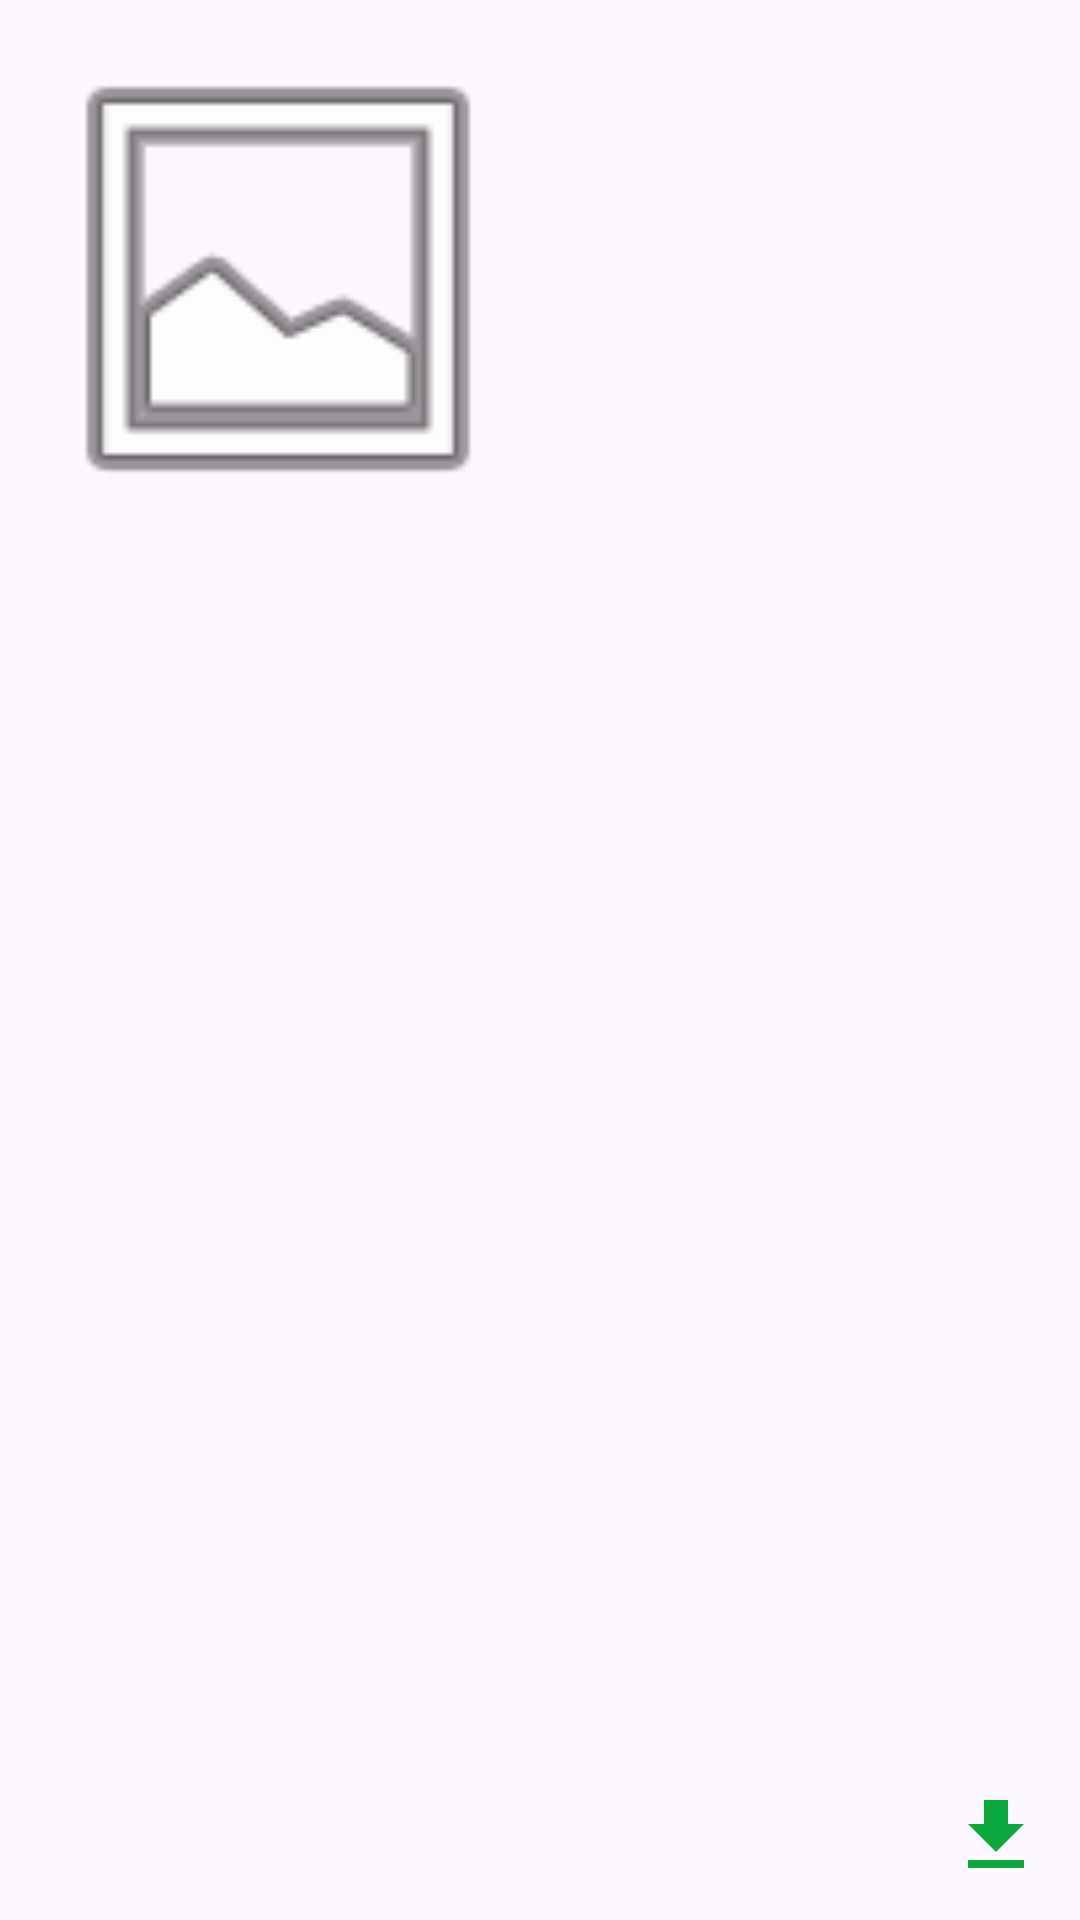

Where to tap for icons on this 1080×1920 app screen, as [x,y]:
Download: [996,1834]
